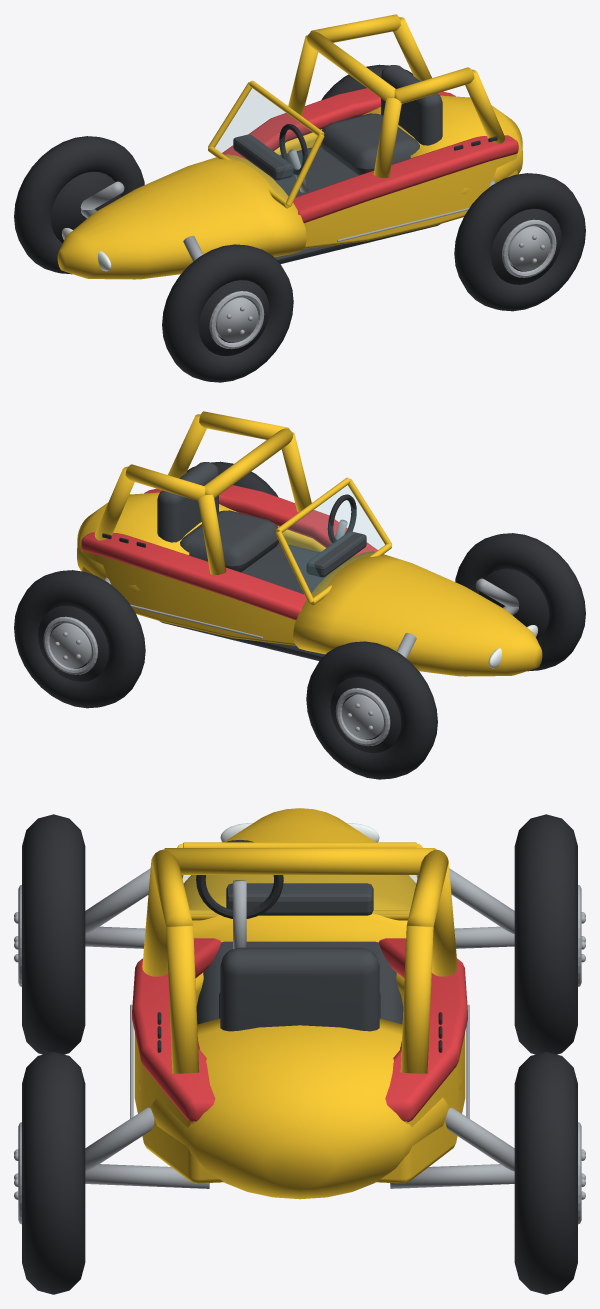
The model's file is buggy-b.glb.
The picture shows the model from 3 angles, top to bottom: view 1: azimuth 30°, elevation 25°; view 2: azimuth 150°, elevation 25°; view 3: azimuth 270°, elevation 25°; orthographic projection. The views are drawn at different scales.
Parts seen in each view (by area): view 1: Continuous tapered nose shell, front tire, rear tire, Yellow cockpit side shell, front tire.001, Red upper side band, Translucent cyan windscreen, Black driver seat, Red upper side band.001, Rounded rear engine deck, Seat back, front rubber sidewall.001 (+22 smaller); view 2: Continuous tapered nose shell, front tire.001, rear tire.001, Yellow cockpit side shell.001, front tire, Red upper side band.001, Translucent cyan windscreen, Black driver seat, Rounded rear engine deck, Red upper side band, Seat back, front rubber sidewall (+23 smaller); view 3: Rounded rear engine deck, rear tire, rear tire.001, front tire, front tire.001, Seat back, Continuous tapered nose shell, Yellow rollbar crossmember, Red upper side band, Red upper side band.001, Translucent cyan windscreen, Yellow cage rear (+20 smaller).
Part boxes in pixels (box(x1,y1,x2,y2)): Continuous tapered nose shell: box(57, 154, 306, 279); front tire: box(162, 244, 293, 382); rear tire: box(454, 173, 585, 311); Yellow cockpit side shell: box(303, 153, 517, 248); front tire.001: box(14, 136, 144, 274); Red upper side band: box(293, 135, 518, 223); Translucent cyan windscreen: box(215, 88, 316, 199); Black driver seat: box(321, 113, 419, 175); Red upper side band.001: box(222, 88, 455, 160); Rounded rear engine deck: box(362, 95, 522, 194); Seat back: box(381, 65, 442, 145); front rubber sidewall.001: box(50, 171, 120, 242); Continuous tapered nose shell: box(293, 551, 542, 676); front tire.001: box(306, 641, 437, 779); rear tire.001: box(14, 570, 145, 708); Yellow cockpit side shell.001: box(82, 550, 296, 645); front tire: box(455, 533, 585, 671); Red upper side band.001: box(81, 532, 306, 620); Translucent cyan windscreen: box(283, 485, 384, 596); Black driver seat: box(180, 510, 278, 572); Rounded rear engine deck: box(77, 492, 237, 591); Red upper side band: box(144, 485, 377, 557); Seat back: box(157, 462, 218, 542); front rubber sidewall: box(479, 568, 549, 639); Rounded rear engine deck: box(138, 1018, 461, 1199); rear tire: box(22, 1051, 85, 1294); rear tire.001: box(514, 1051, 577, 1294); front tire: box(22, 814, 85, 1054); front tire.001: box(514, 814, 577, 1054); Seat back: box(220, 947, 379, 1031); Continuous tapered nose shell: box(183, 808, 416, 942); Yellow rollbar crossmember: box(164, 848, 435, 874); Red upper side band: box(132, 938, 221, 1122); Red upper side band.001: box(378, 938, 467, 1122); Translucent cyan windscreen: box(183, 875, 416, 914); Yellow cage rear: box(166, 925, 199, 1073).
Size of the model in its own units: 2.88 by 1.32 by 1.9.
